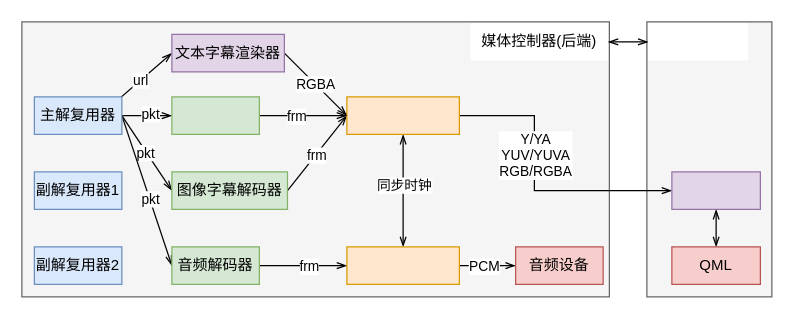
Image size: 794x319. Some labels were removed from this diagram. The centre of each missing label's shape, as x and y in pixels:
"渲染器" belongs at (715,190).
"界面(前端)" belongs at (698,41).
"视频播放控制器" belongs at (402,115).
"视频解码器" belongs at (215,115).
"音频播放控制器" belongs at (402,265).
